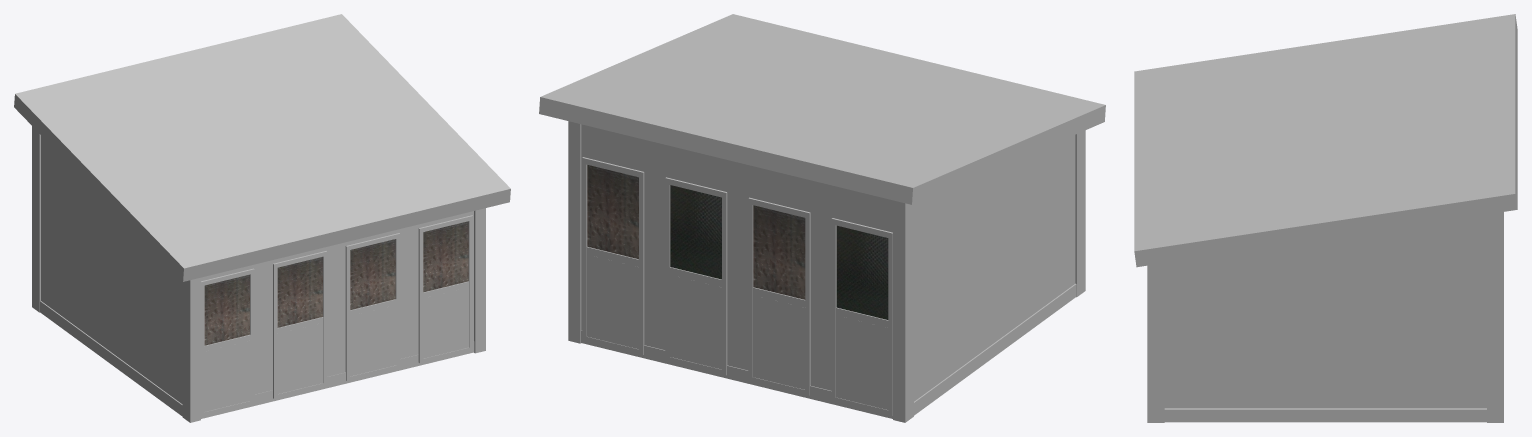
File: apart_poor_08a.fbx
3 renders of one model, left to right at view 1: azimuth 30°, elevation 25°; view 2: azimuth 150°, elevation 25°; view 3: azimuth 270°, elevation 25°, orthographic. The views are drawn at different scales.
Parts seen in each view (by area): view 1: apart_poor_08a; view 2: apart_poor_08a; view 3: apart_poor_08a.
Boxes of the visible parts, <box> form: apart_poor_08a: <box>14,14,510,422</box>; apart_poor_08a: <box>539,14,1105,422</box>; apart_poor_08a: <box>1134,14,1517,422</box>.
Size of the model in its own units: 4.46 by 2.77 by 4.02.
